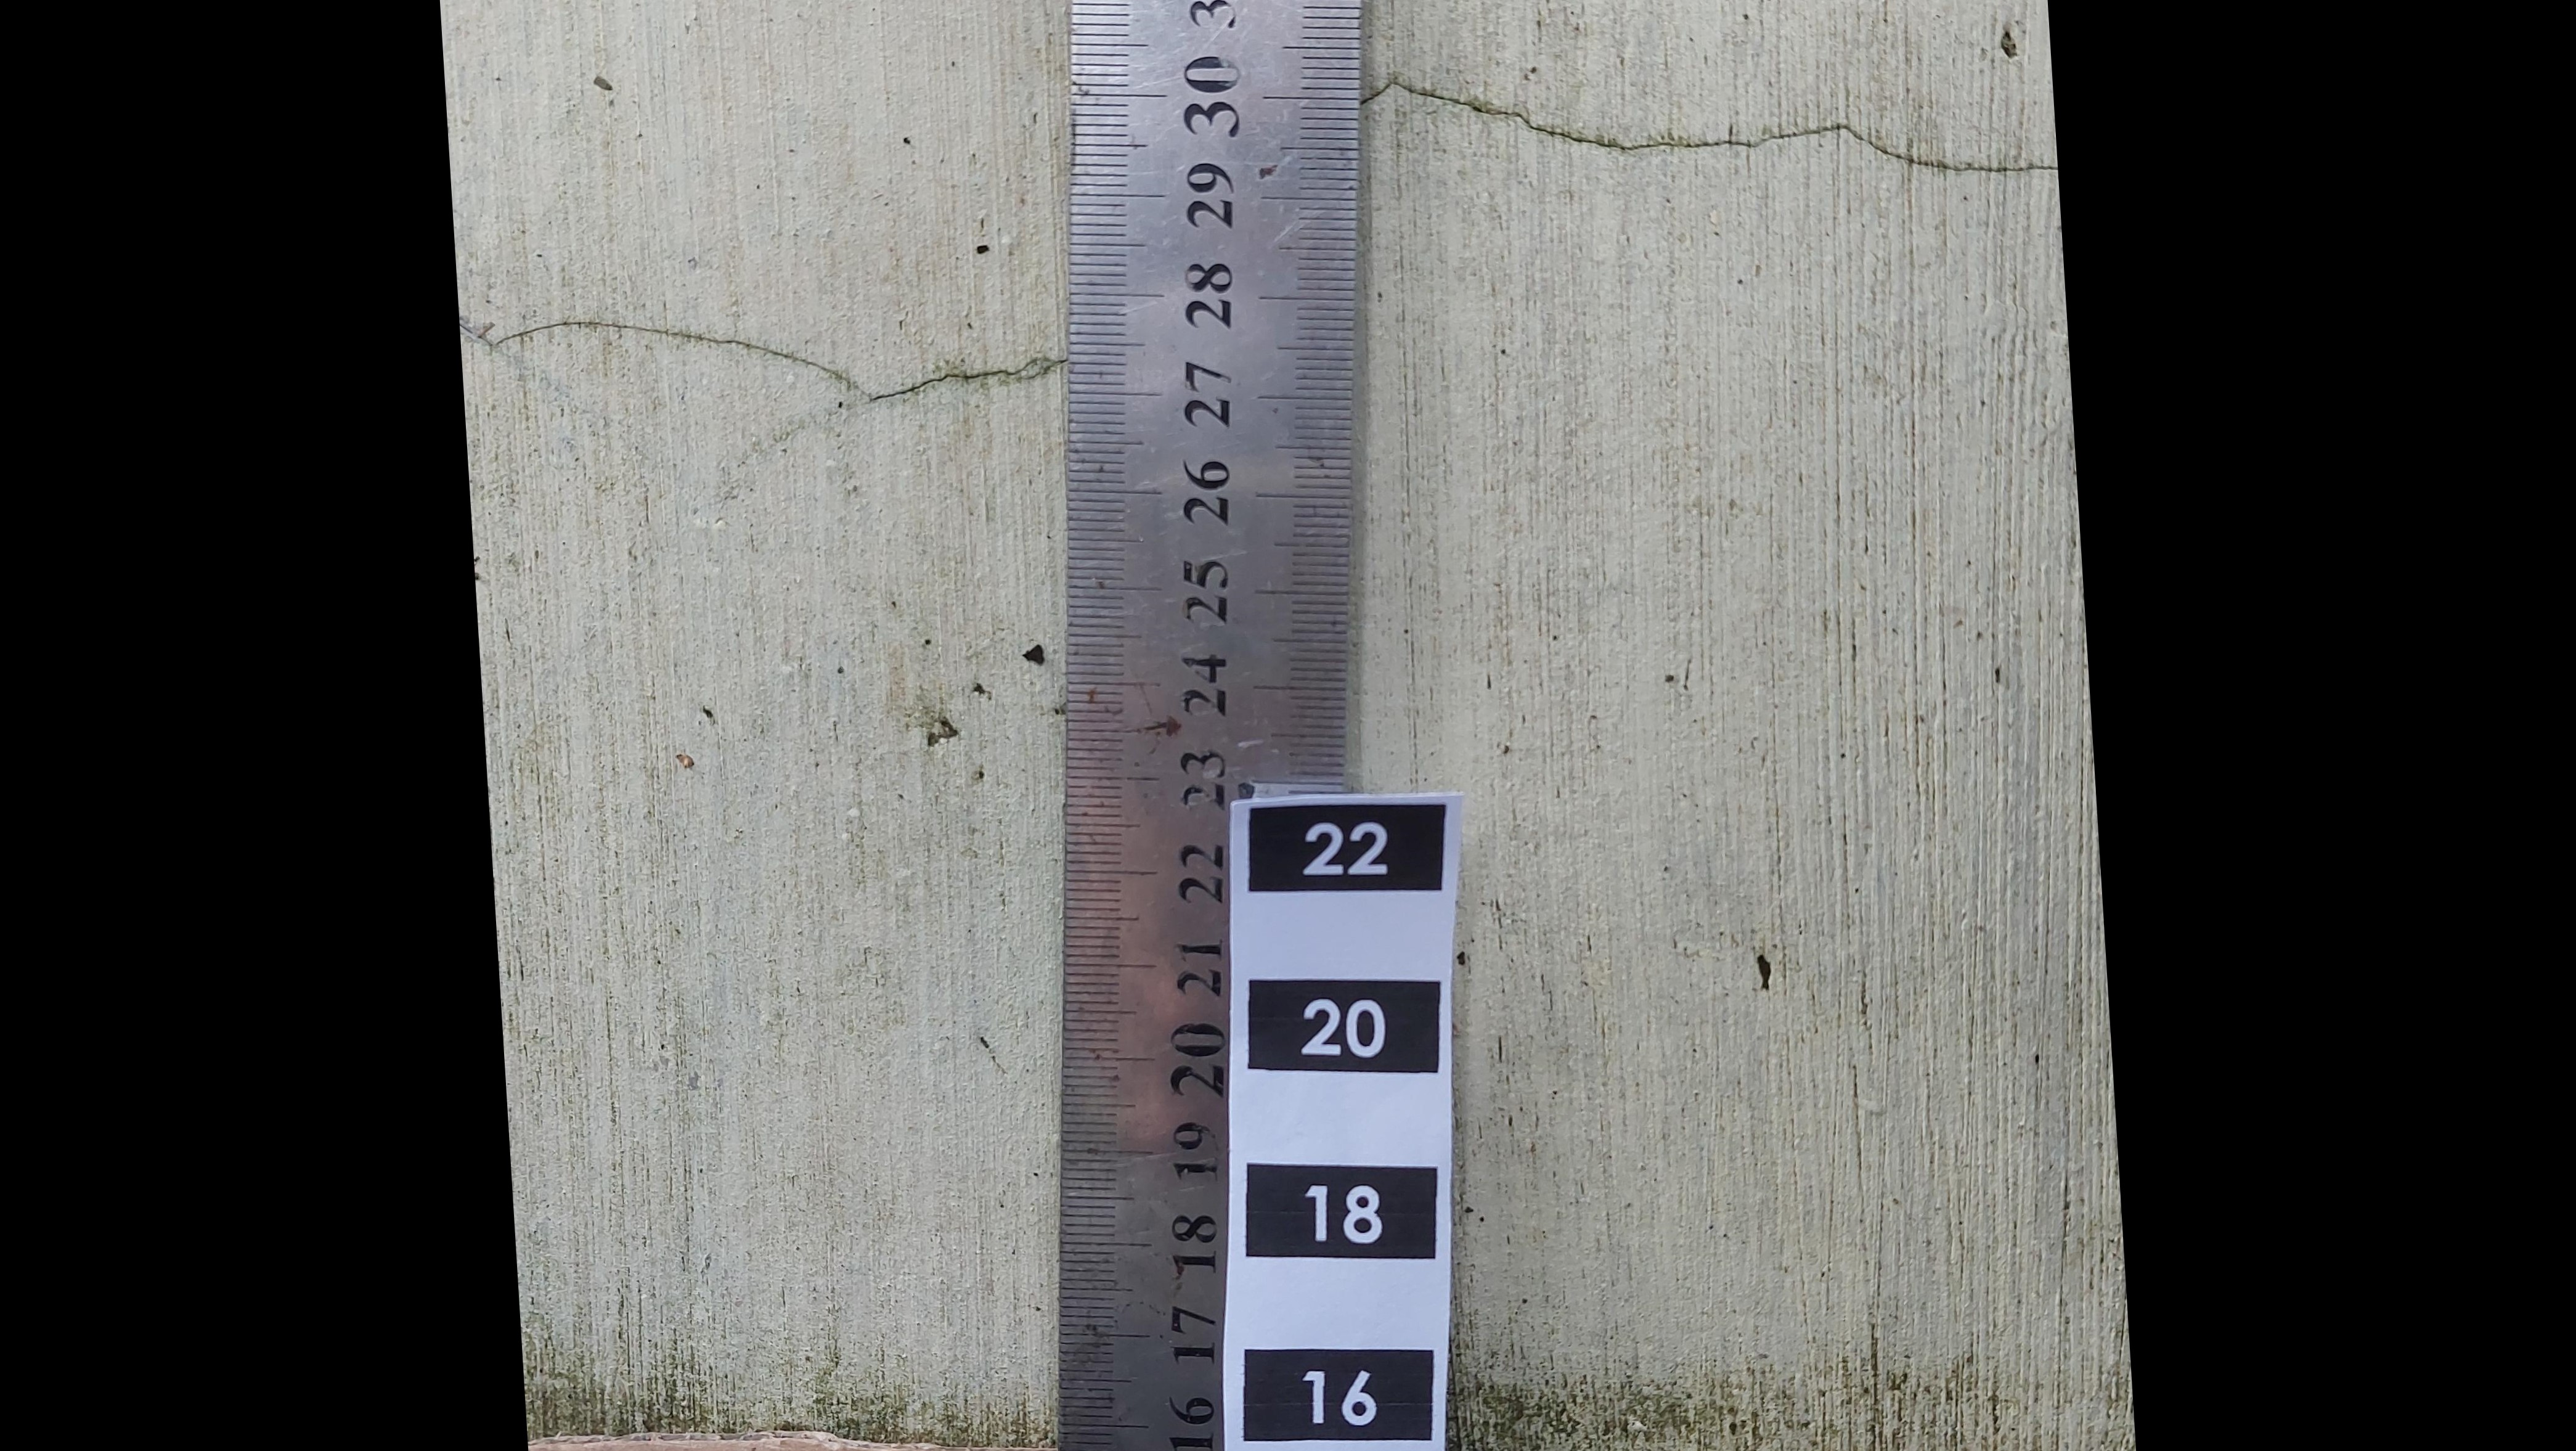kotak_2x1: (1246, 979, 1440, 1074), (1246, 1164, 1438, 1258), (1247, 803, 1442, 894)
